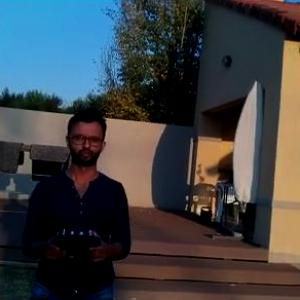follow: (17, 99, 136, 299)
